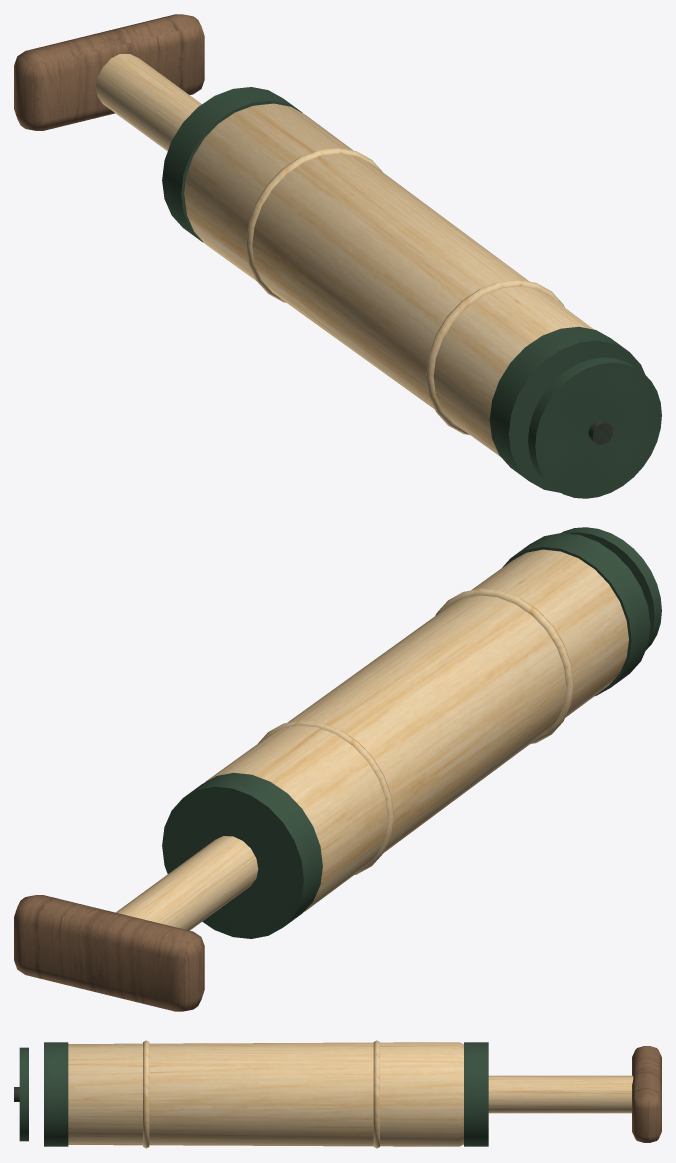
Rendered from BambooWaterGun.fbx.
3 views of the same model, one above another, from view 1: azimuth 30°, elevation 25°; view 2: azimuth 150°, elevation 25°; view 3: azimuth 270°, elevation 25° (orthographic). The views are drawn at different scales.
Parts seen in each view (by area): view 1: BambooWaterGun_Mesh, BambooWaterGun_Pump; view 2: BambooWaterGun_Mesh, BambooWaterGun_Pump; view 3: BambooWaterGun_Mesh, BambooWaterGun_Pump.
Part boxes in pixels (bbox=[...]): BambooWaterGun_Mesh: bbox=[162, 87, 661, 498]; BambooWaterGun_Pump: bbox=[14, 14, 204, 151]; BambooWaterGun_Mesh: bbox=[162, 527, 661, 938]; BambooWaterGun_Pump: bbox=[14, 836, 258, 1011]; BambooWaterGun_Mesh: bbox=[14, 1040, 488, 1148]; BambooWaterGun_Pump: bbox=[488, 1046, 661, 1142].
Bounding box in the file's own units: 0.072 × 0.058 × 0.3455.
Materials: 1 (1 with a texture image).
